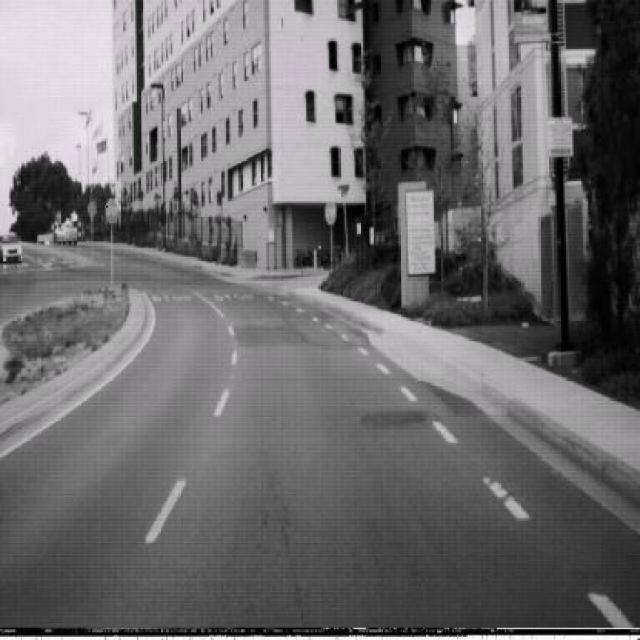stop: (105, 197, 119, 224), (324, 198, 336, 224)
